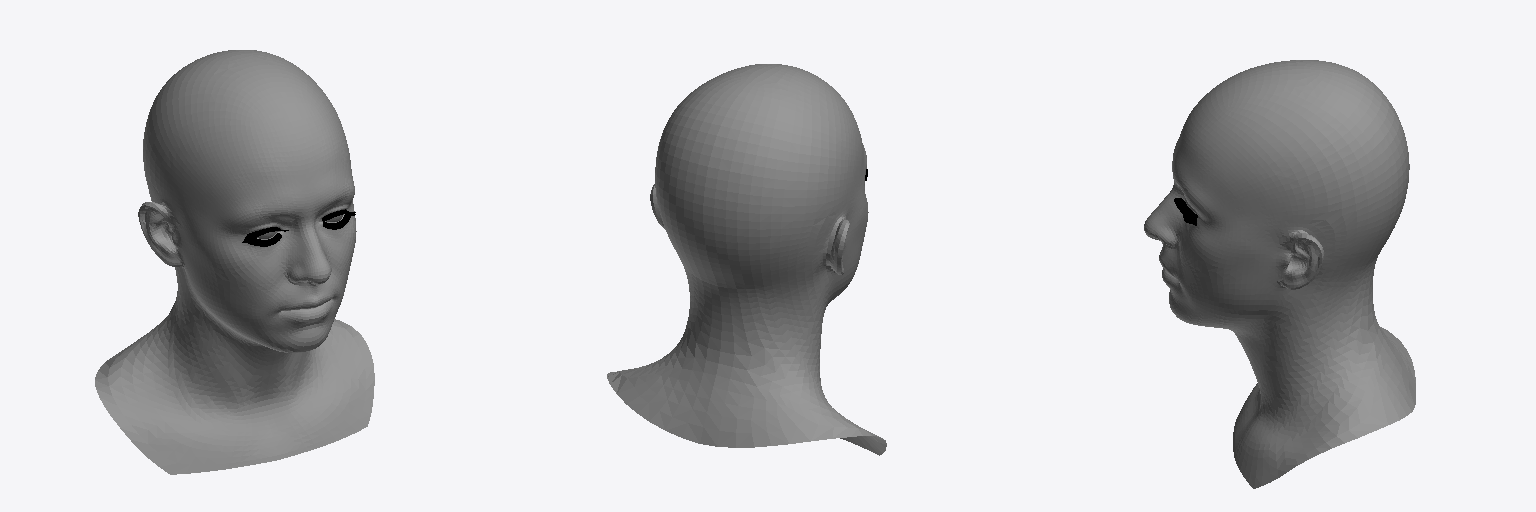
The model's file is identity081.obj.
3 views of the same model, side by side, from view 1: azimuth 30°, elevation 25°; view 2: azimuth 150°, elevation 25°; view 3: azimuth 270°, elevation 25° (orthographic).
Size of the model in its own units: 24.81 by 33.78 by 22.31.